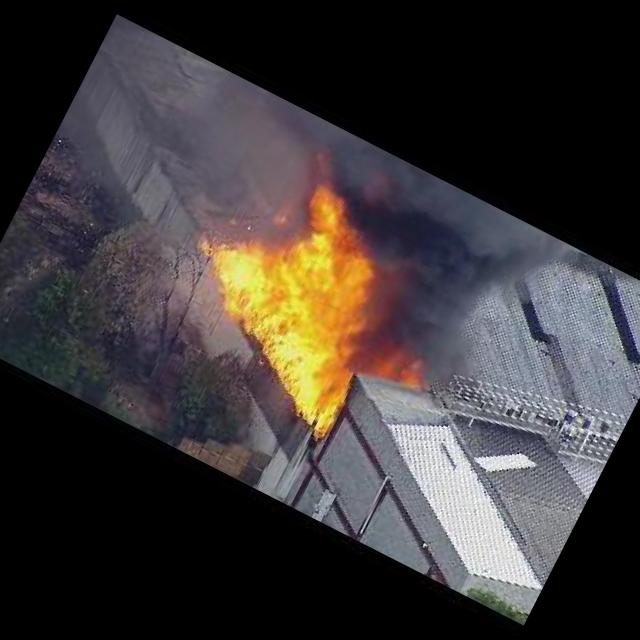fire: (143, 142, 436, 446), (375, 339, 434, 396)
smoke: (136, 54, 580, 408)
